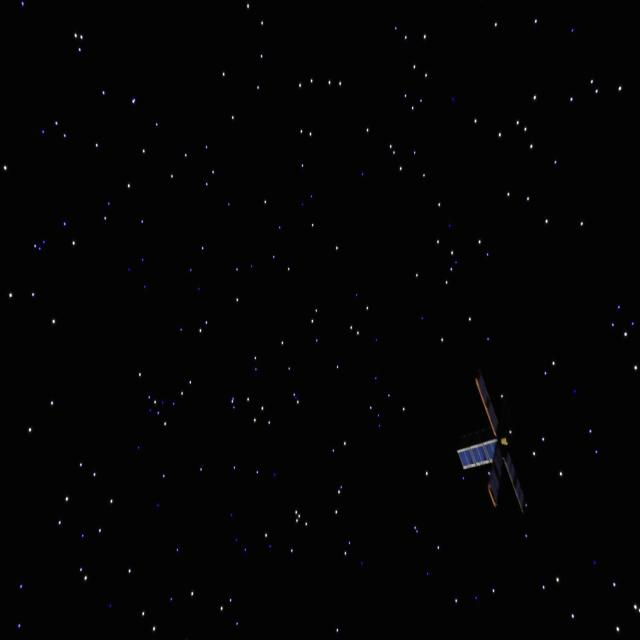medium_debris: (451, 372, 541, 518)
